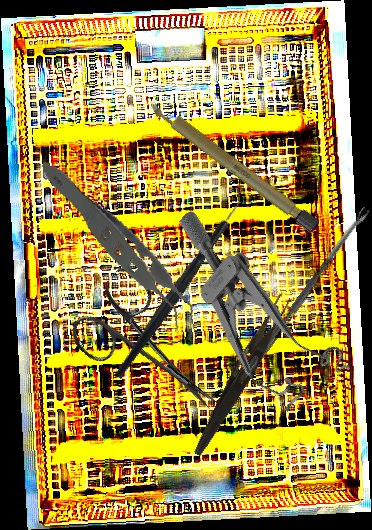Chopper: (65, 182, 291, 382)
Dressing Forceps: (191, 290, 292, 461)
Iris Scissors: (61, 262, 246, 440)
Scalpel Handle: (145, 96, 321, 234)
Speculum: (128, 208, 365, 426)
Surgical Spoon: (241, 206, 371, 381)
Tissue Forceps: (41, 140, 200, 365)
